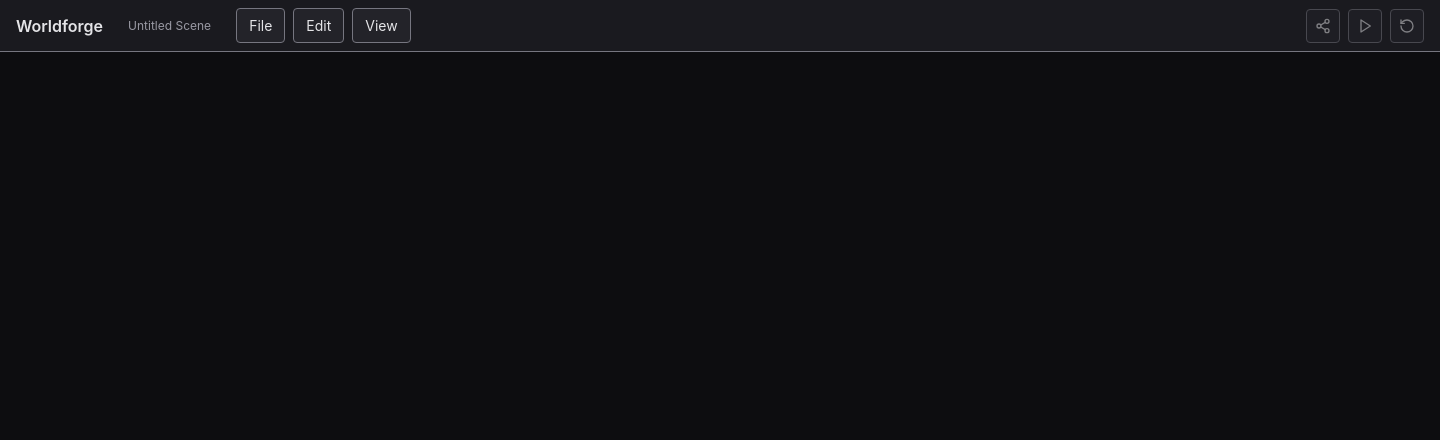
Toolbar — Import Scene (M7.2, §27) › is available in the File menu, with a hidden file input restricted to .json
What coordinates should you click on to do the following:
click the button "File"
I would click on:
 (261, 26)
Its box is x1=236 y1=8 x2=285 y2=43.
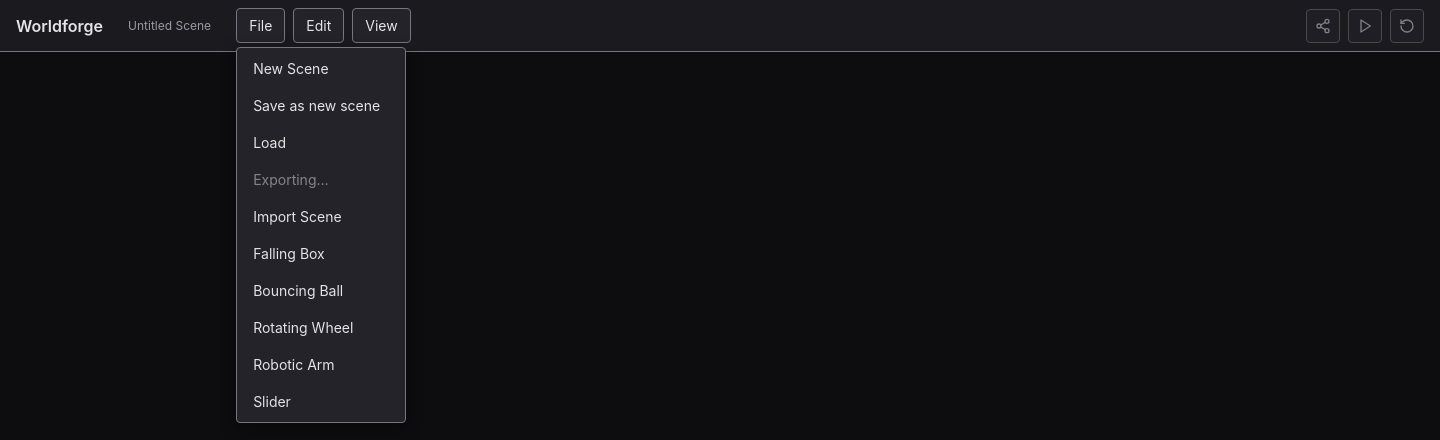
Expected: the button "Import Scene" is shown, x1=241 y1=200 x2=401 y2=233
